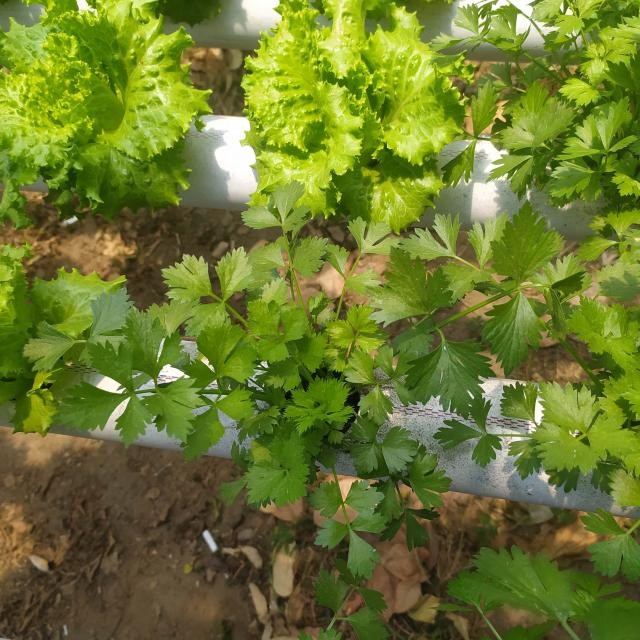Wet Waste: (133, 216, 640, 549), (473, 2, 640, 196)
